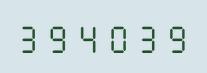four: (74, 20, 101, 53)
nine: (45, 20, 72, 53), (158, 20, 185, 53)
three: (17, 20, 44, 53), (130, 20, 157, 53)
zero: (102, 20, 129, 53)
